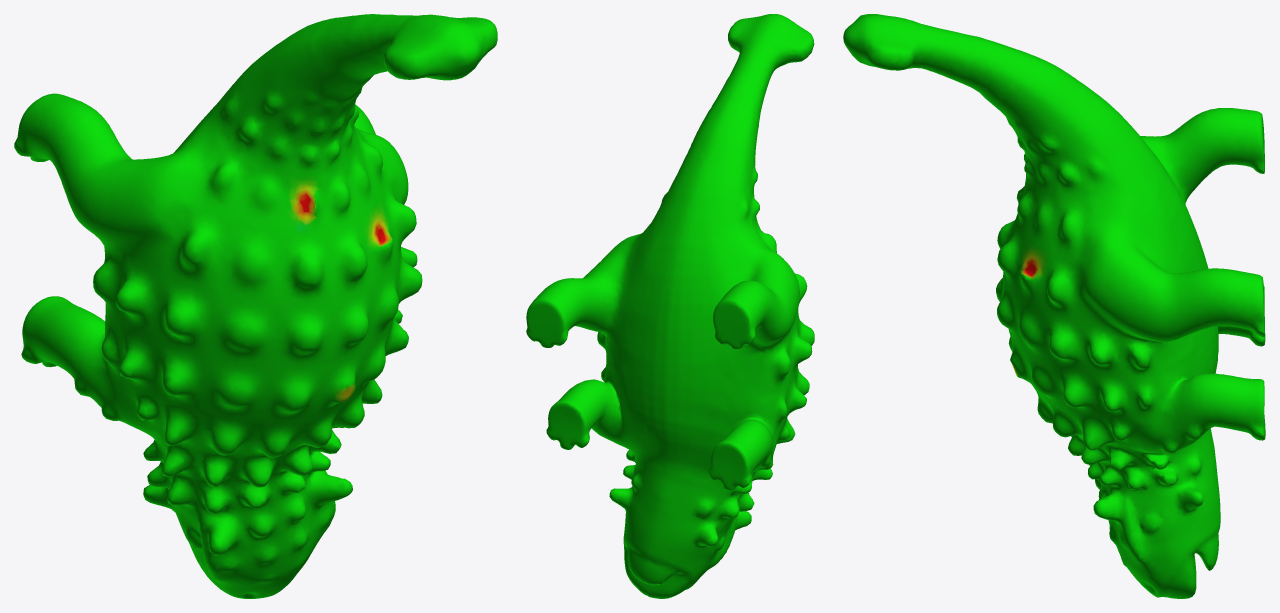
File: all=0.000203-hole=0.003352-initial.obj
The picture shows the model from 3 angles, left to right: view 1: azimuth 30°, elevation 25°; view 2: azimuth 150°, elevation 25°; view 3: azimuth 270°, elevation 25°; orthographic projection. The views are drawn at different scales.
Bounding box in the file's own units: 62.61 × 127 × 83.11.
